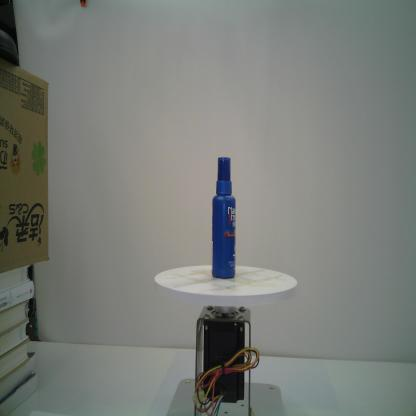Personal Hygiene: (210, 155, 238, 280)
